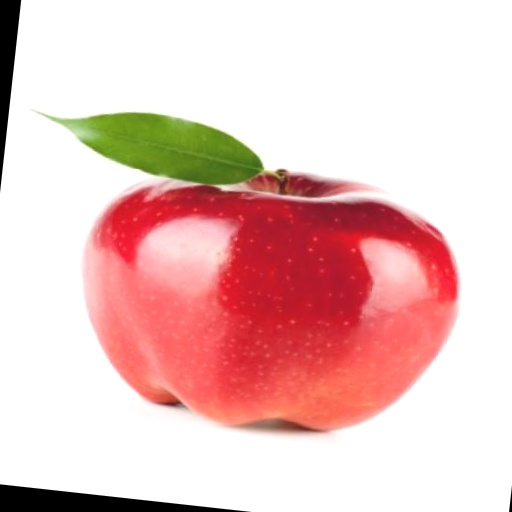fruit: (83, 174, 458, 429)
